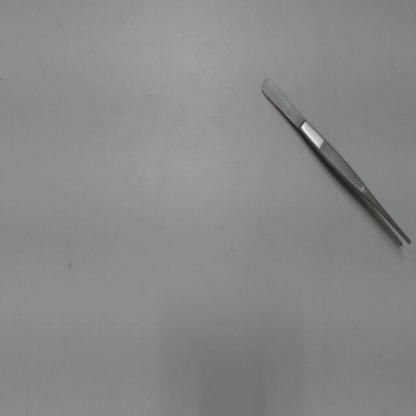Gillies Toothed Dissector: (258, 64, 416, 255)
